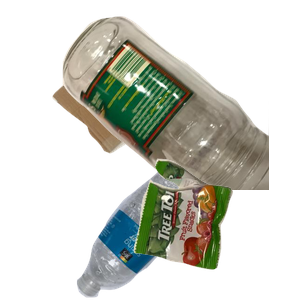cardboard: (50, 38, 233, 184)
glass: (60, 14, 300, 194)
plastic: (74, 156, 280, 300)
trash: (131, 156, 300, 300)
